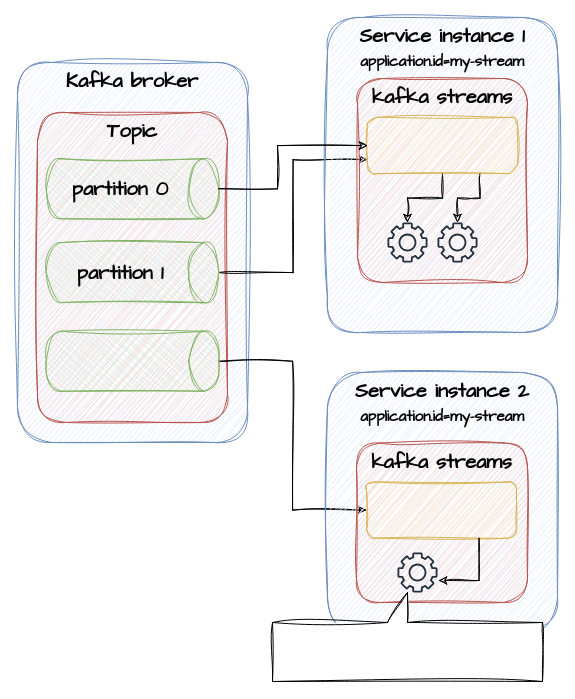
This 575x699 diagram has some shape labels left out. Each missing label, with the centre of its shape:
"Consumer-1 group.id=my-stream" belongs at (442,145).
"Consumer-2 group.id=my-stream" belongs at (441,509).
"One task pr. partition. Each task can have its own statestore" belongs at (407,637).
"partition 2" belongs at (132,360).
